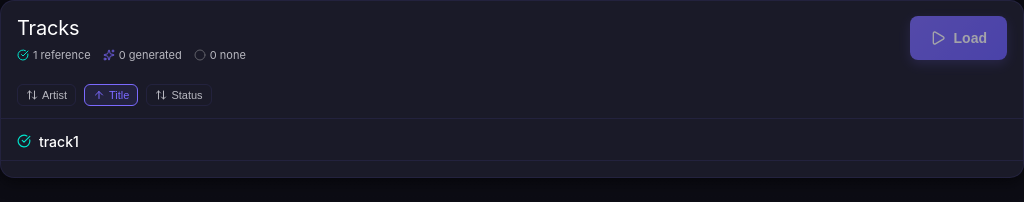
it: TrackSelector › Track Loading › load button is enabled when track selected
The width and height of the screenshot is (1024, 202).
Click the text "track1" at (59, 141), box [39, 130, 79, 152]
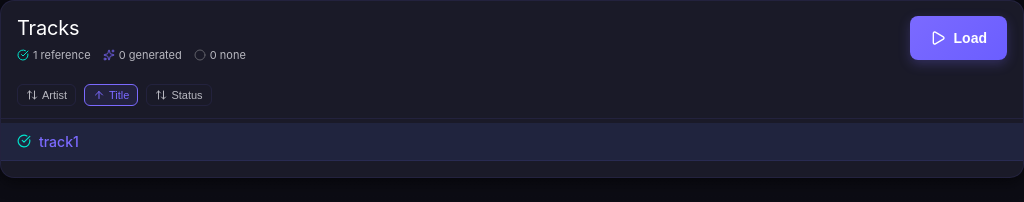
Expected: the button "Load" is enabled, [910, 16, 1007, 60]
